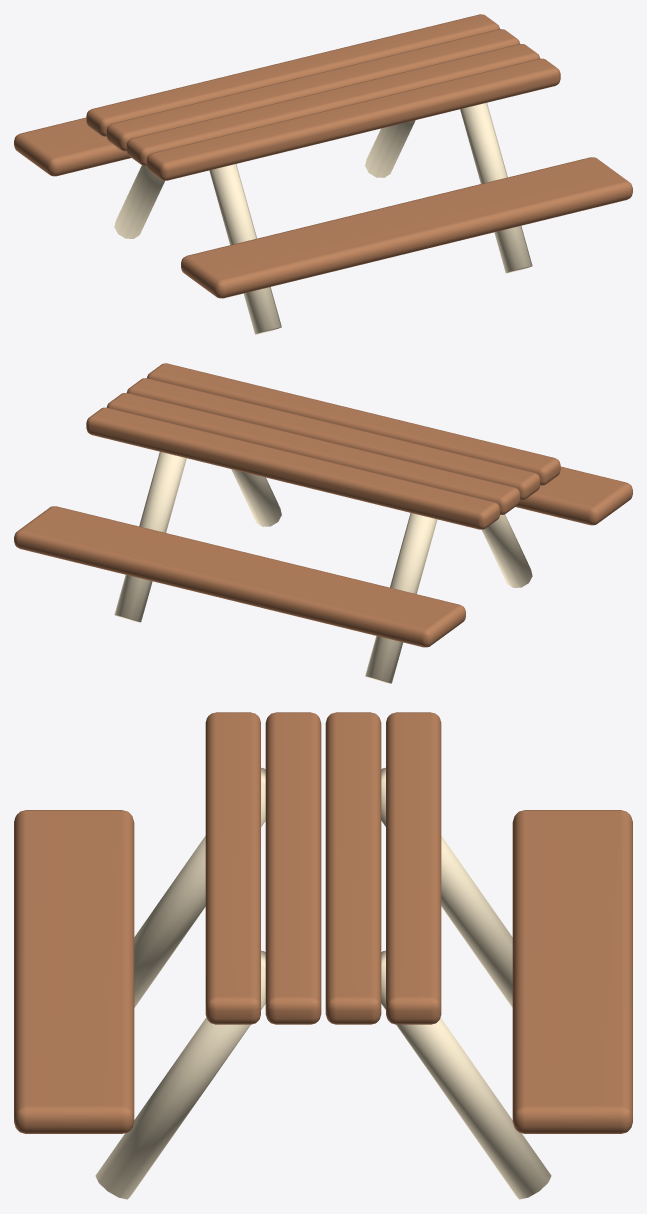
Rendered from Picnic_table.fbx.
3 views of the same model, one above another, from view 1: azimuth 30°, elevation 25°; view 2: azimuth 150°, elevation 25°; view 3: azimuth 270°, elevation 25° (orthographic). The views are drawn at different scales.
Visible parts, largest first — view 1: Town_Picnic_table Picnic bench.002, Town_Picnic_table Table board.004, Town_Picnic_table Table board.006, Town_Picnic_table Table board.007, Town_Picnic_table Table board.005, Town_Picnic_table Picnic bench.003, Town_Picnic_table A frame leg.006, Town_Picnic_table A frame leg.004, Town_Picnic_table A frame leg.005, Town_Picnic_table A frame leg.007; view 2: Town_Picnic_table Picnic bench.003, Town_Picnic_table Table board.007, Town_Picnic_table Table board.005, Town_Picnic_table Table board.004, Town_Picnic_table Table board.006, Town_Picnic_table Picnic bench.002, Town_Picnic_table A frame leg.007, Town_Picnic_table A frame leg.005, Town_Picnic_table A frame leg.004, Town_Picnic_table A frame leg.006; view 3: Town_Picnic_table Picnic bench.002, Town_Picnic_table Picnic bench.003, Town_Picnic_table Table board.005, Town_Picnic_table Table board.006, Town_Picnic_table Table board.004, Town_Picnic_table Table board.007, Town_Picnic_table A frame leg.006, Town_Picnic_table A frame leg.007, Town_Picnic_table A frame leg.004, Town_Picnic_table A frame leg.005.
Part boxes in pixels (<box>): Town_Picnic_table Picnic bench.002: <box>181,157,632,298</box>; Town_Picnic_table Table board.004: <box>146,58,560,180</box>; Town_Picnic_table Table board.006: <box>106,29,519,151</box>; Town_Picnic_table Table board.007: <box>86,14,499,136</box>; Town_Picnic_table Table board.005: <box>126,43,540,165</box>; Town_Picnic_table Picnic bench.003: <box>14,117,131,176</box>; Town_Picnic_table A frame leg.006: <box>460,103,532,273</box>; Town_Picnic_table A frame leg.004: <box>209,164,281,334</box>; Town_Picnic_table A frame leg.005: <box>114,165,164,238</box>; Town_Picnic_table A frame leg.007: <box>365,120,415,177</box>; Town_Picnic_table Picnic bench.003: <box>14,506,465,647</box>; Town_Picnic_table Table board.007: <box>86,407,500,529</box>; Town_Picnic_table Table board.005: <box>127,378,540,500</box>; Town_Picnic_table Table board.004: <box>147,363,560,485</box>; Town_Picnic_table Table board.006: <box>106,392,520,514</box>; Town_Picnic_table Picnic bench.002: <box>515,466,632,525</box>; Town_Picnic_table A frame leg.007: <box>114,452,186,622</box>; Town_Picnic_table A frame leg.005: <box>365,513,437,683</box>; Town_Picnic_table A frame leg.004: <box>482,514,532,587</box>; Town_Picnic_table A frame leg.006: <box>231,469,281,526</box>; Town_Picnic_table Picnic bench.002: <box>14,810,134,1133</box>; Town_Picnic_table Picnic bench.003: <box>512,810,632,1133</box>; Town_Picnic_table Table board.005: <box>265,712,321,1024</box>; Town_Picnic_table Table board.006: <box>325,712,381,1024</box>; Town_Picnic_table Table board.004: <box>205,712,260,1024</box>; Town_Picnic_table Table board.007: <box>386,712,441,1024</box>; Town_Picnic_table A frame leg.006: <box>95,950,265,1199</box>; Town_Picnic_table A frame leg.007: <box>381,950,551,1199</box>; Town_Picnic_table A frame leg.004: <box>134,767,265,1007</box>; Town_Picnic_table A frame leg.005: <box>381,767,512,1007</box>.
Bounding box in the file's own units: 240 × 91.75 × 206.
